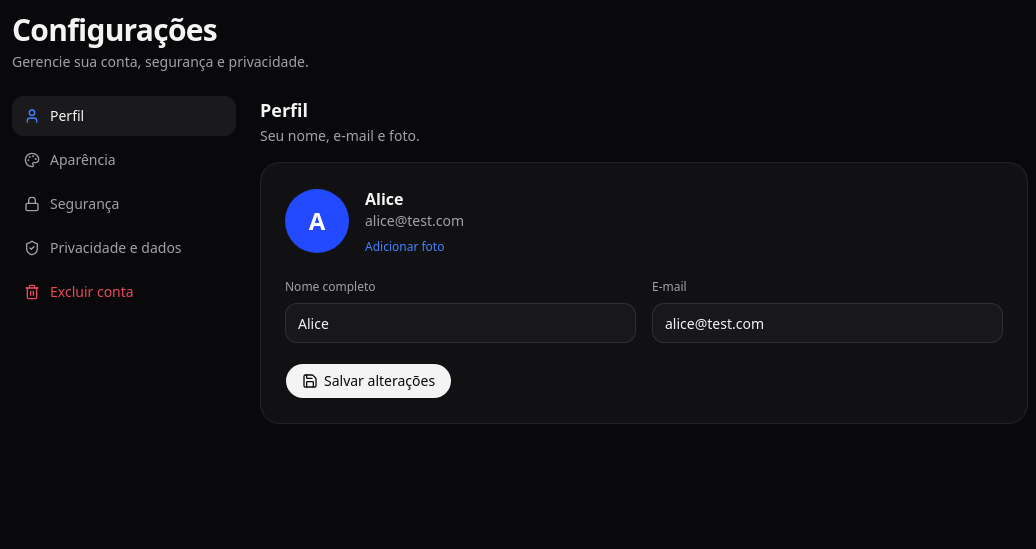
Scenario: Settings, step-up de senha na troca de e-mail (#153) › mostra 'Senha incorreta.' e associa o erro ao campo quando o backend recusa a senha do step-up
The width and height of the screenshot is (1036, 549).
Replace the text in the field labelled "E-mail" with "novo@test.com" at [828, 323], box top-left (652, 303), bottom-right (1003, 343)
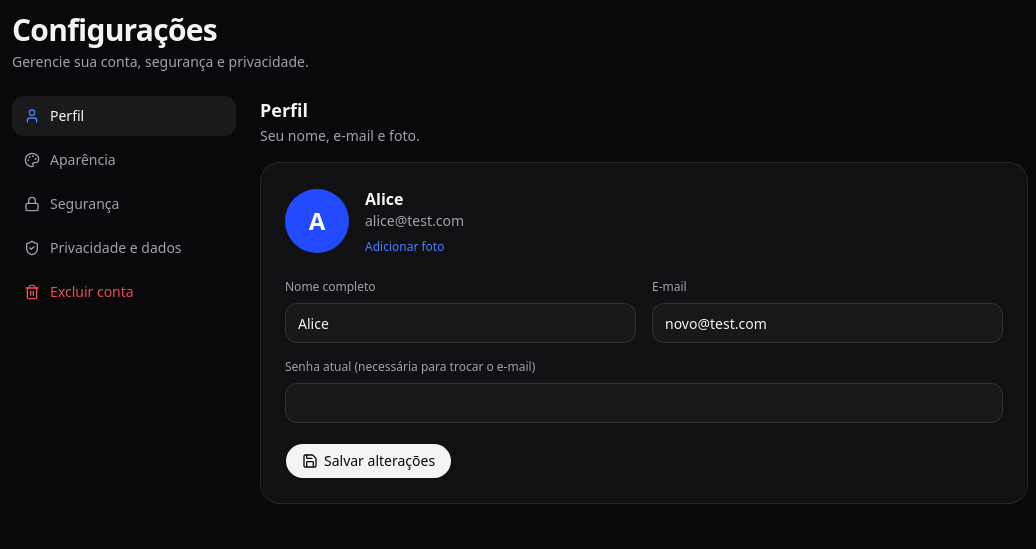
Type "errada" into the password field labelled "Senha atual (necessária para trocar o e-mail)" at [644, 403], box top-left (285, 383), bottom-right (1003, 423)
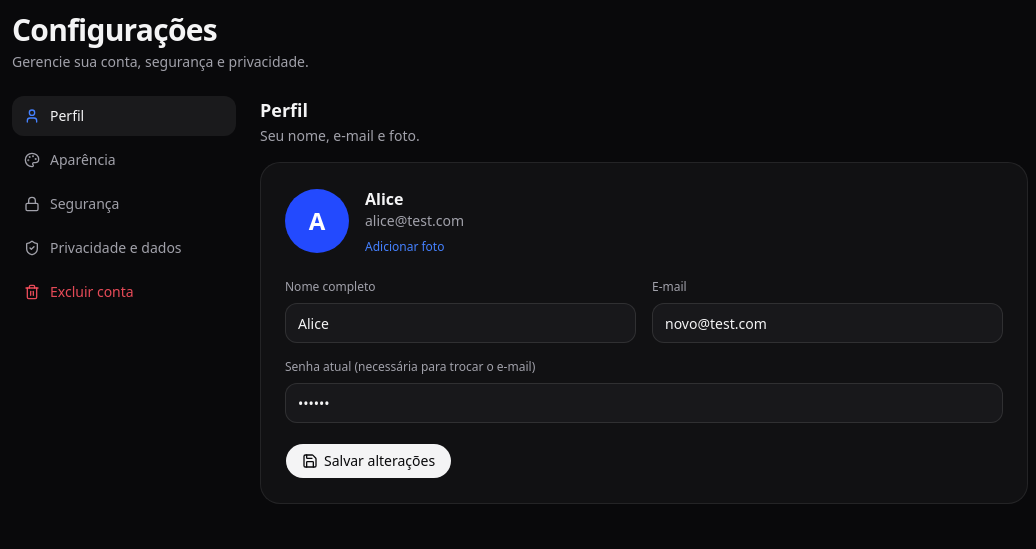
Click the button "Salvar alterações" at [369, 461], box top-left (285, 443), bottom-right (452, 479)
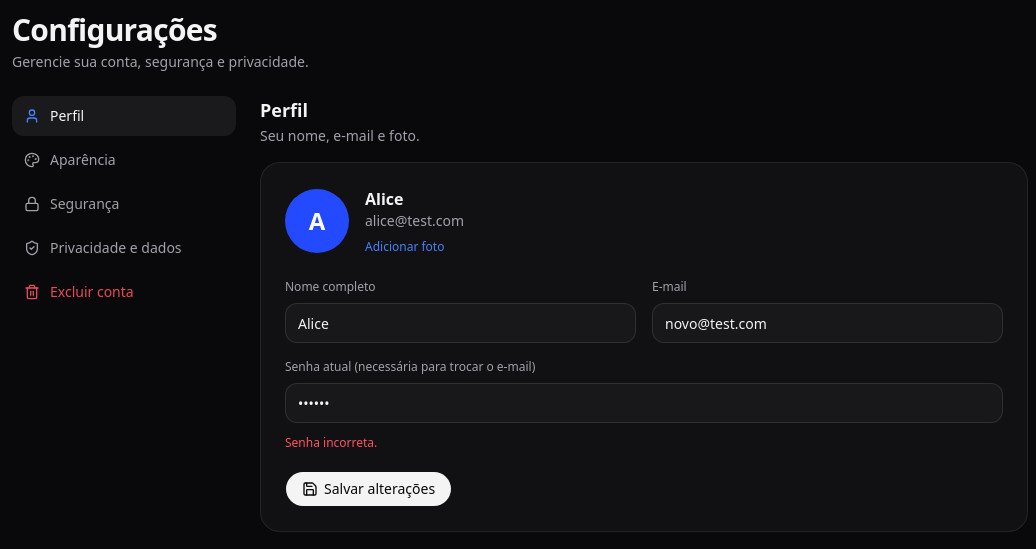
Check: the message reads "Senha incorreta.", box top-left (285, 434), bottom-right (377, 451)
